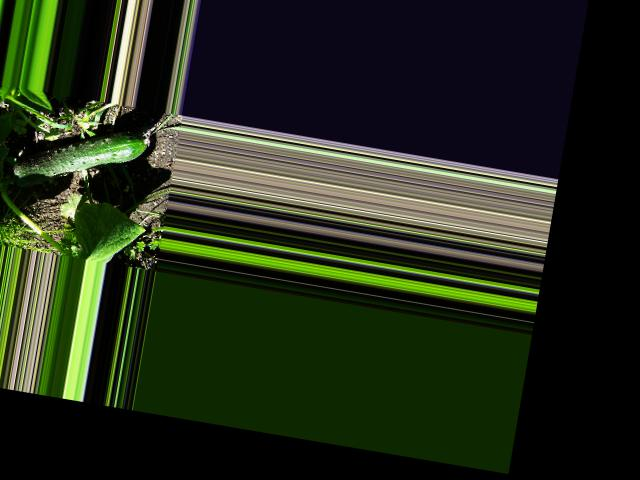cucumber: (7, 112, 150, 206)
